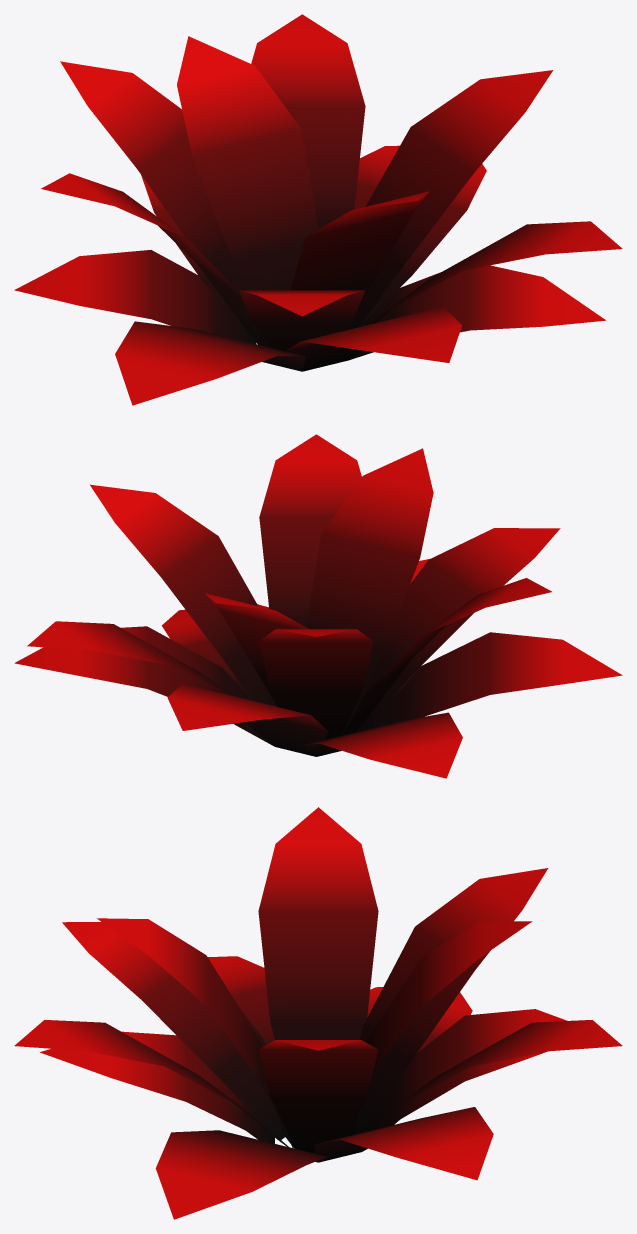
Rendered from plantVertexPainted.FBX.
3 renders of one model, top to bottom at view 1: azimuth 30°, elevation 25°; view 2: azimuth 150°, elevation 25°; view 3: azimuth 270°, elevation 25°, orthographic. The views are drawn at different scales.
Parts seen in each view (by area): view 1: plantVertexPainted; view 2: plantVertexPainted; view 3: plantVertexPainted.
Part boxes in pixels (left/top/right/bottom): plantVertexPainted: left=14, top=14, right=622, bottom=405; plantVertexPainted: left=14, top=434, right=622, bottom=778; plantVertexPainted: left=14, top=807, right=622, bottom=1219.
Bounding box in the file's own units: 1.25 × 0.5808 × 1.36.
